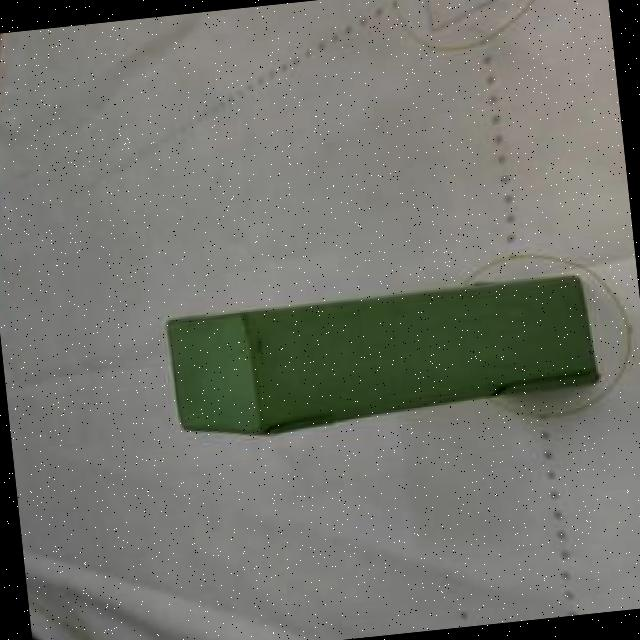greenbox: (160, 268, 601, 446)
